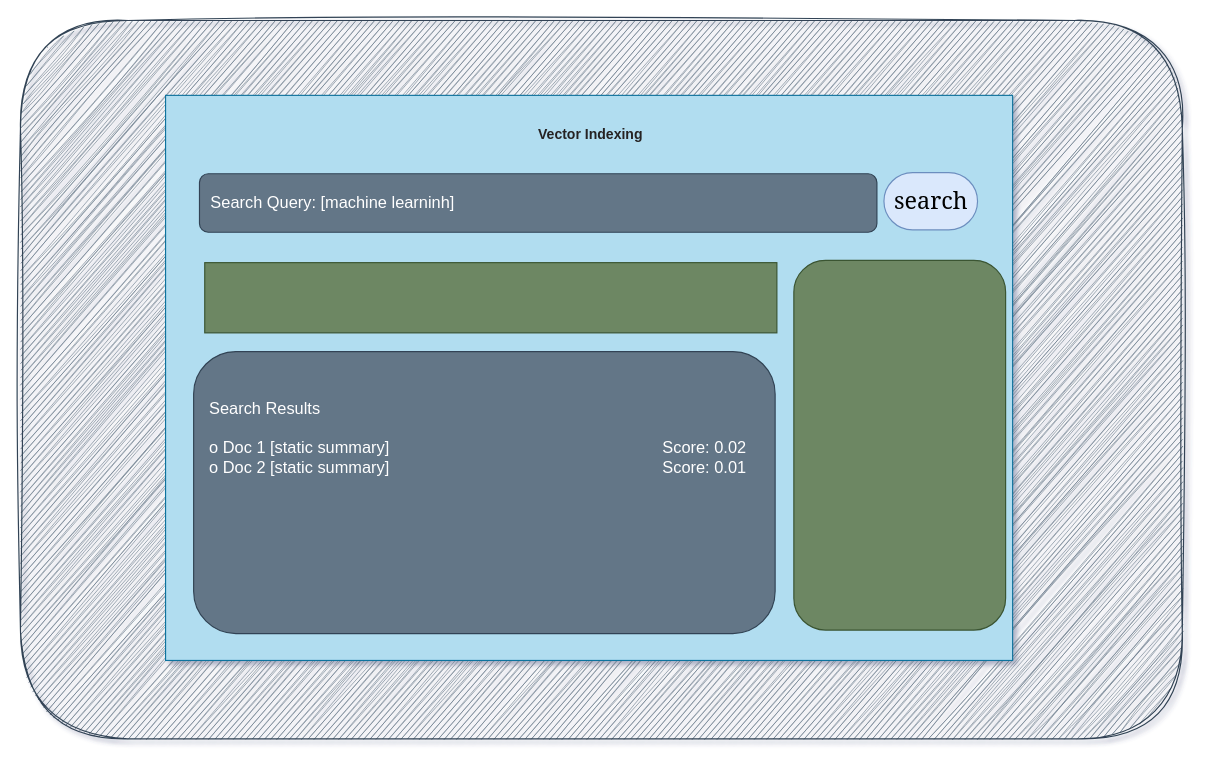
Image size: 1210x766. Some labels were removed from this diagram. Here are the shapes that lost their labels. From the top down, the centre of each, then its label:
the point at 490,297: Did You Mean: Correct Query [If misspelled]
the point at 899,444: Suggestions o learning o learning_rate o learnings
